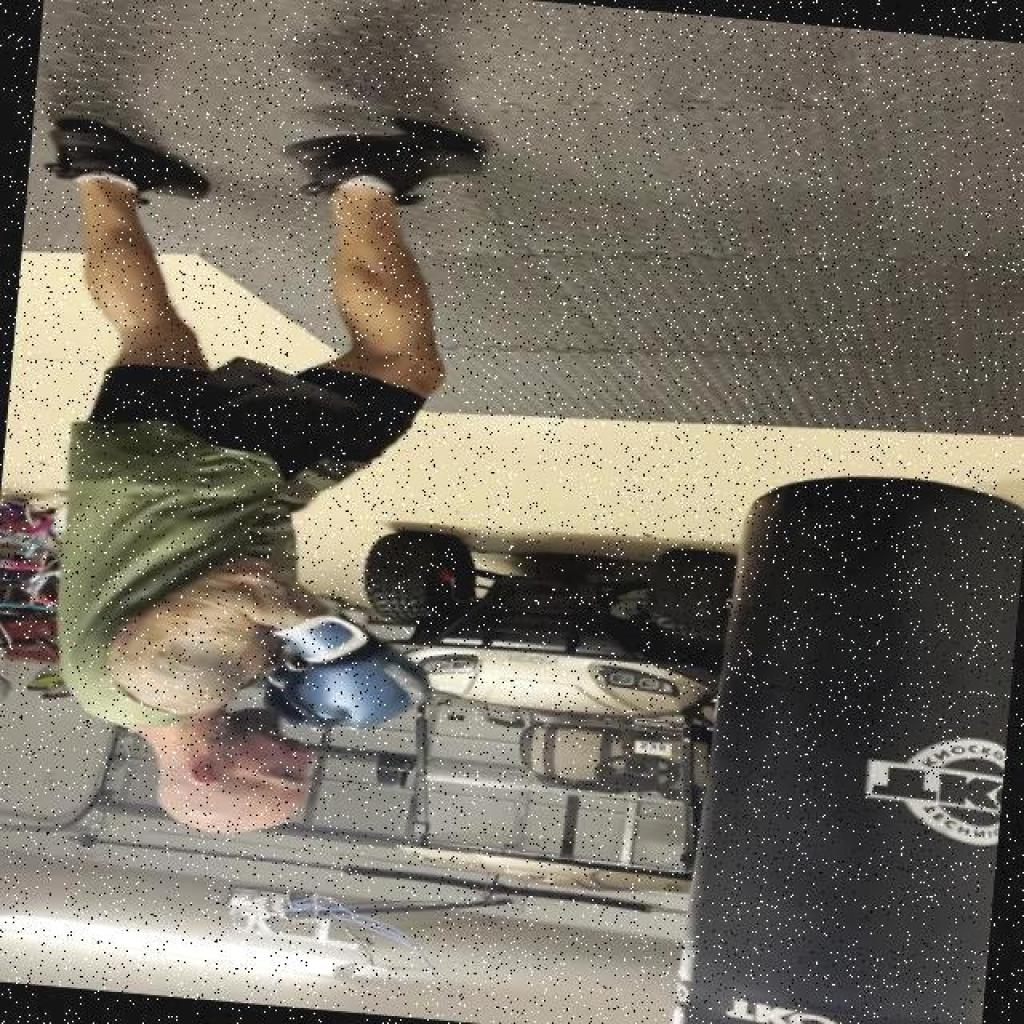bag: (651, 461, 1024, 1024)
no punch: (18, 539, 444, 853)
